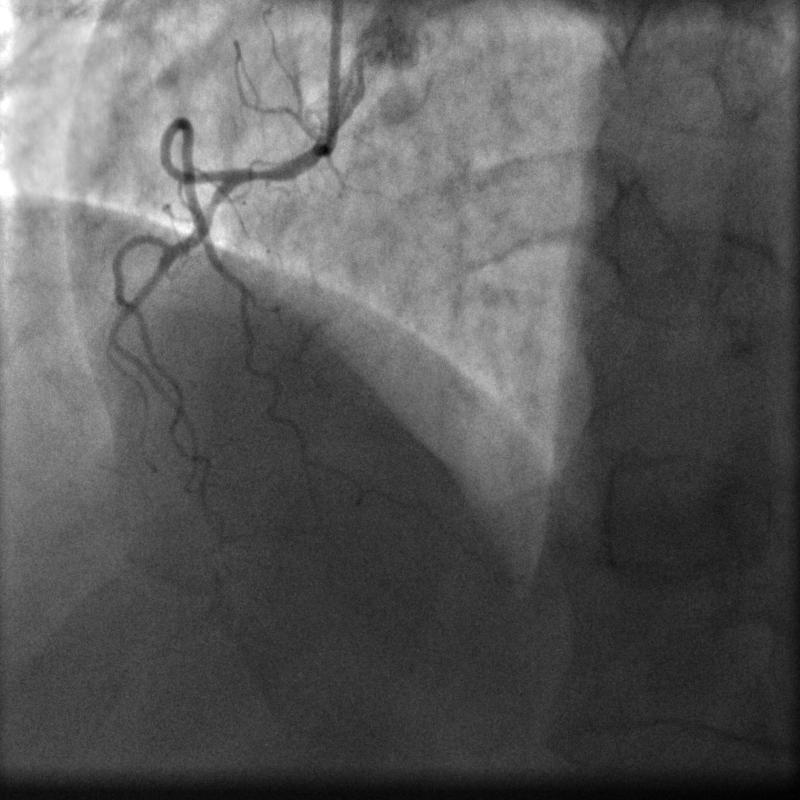Stenosis: (236, 156, 287, 189)
